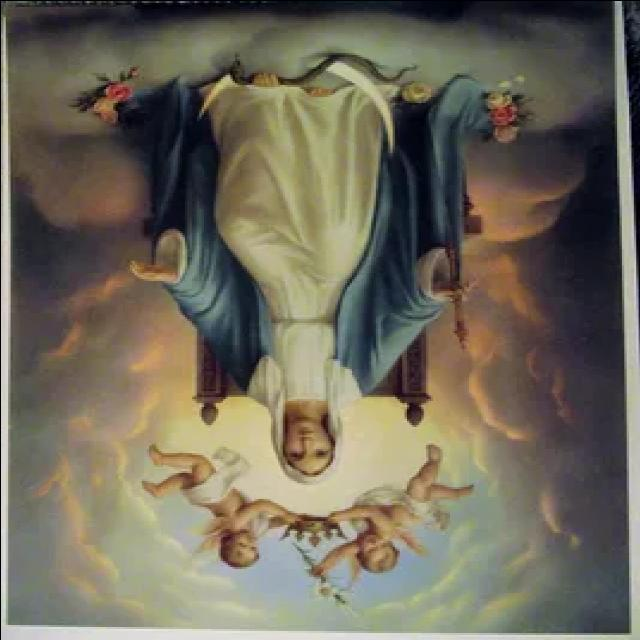mother of god: (116, 55, 468, 493)
